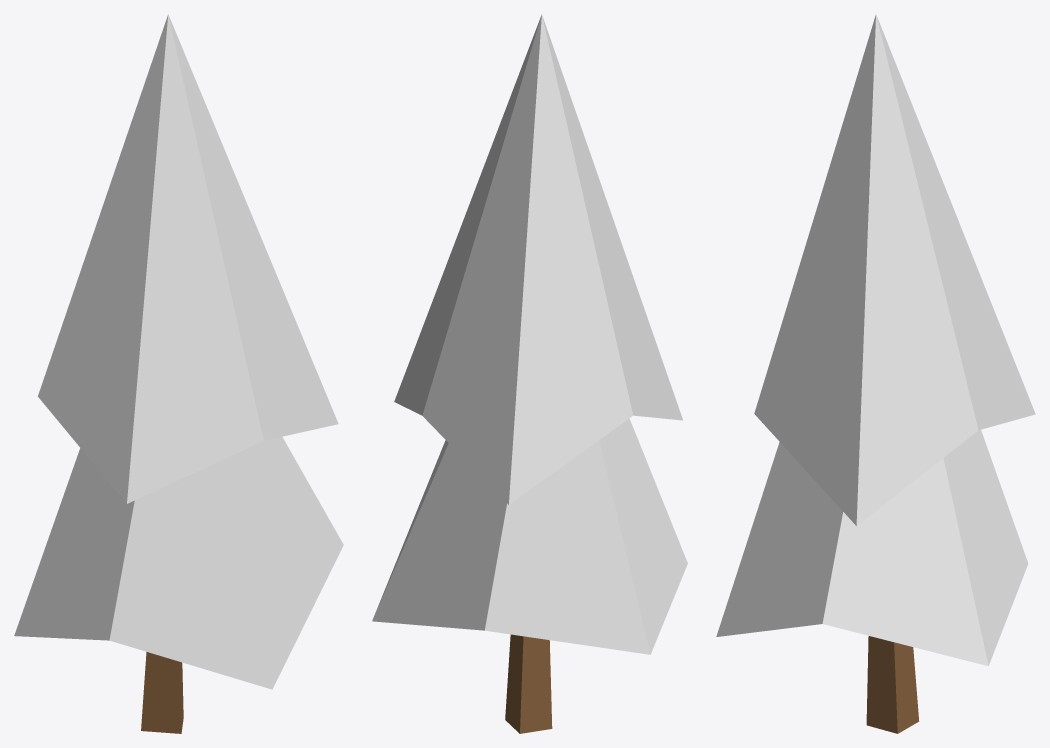
File: Pine_Tree_s_Snow_BT_07.fbx
The picture shows the model from 3 angles, left to right: view 1: azimuth 30°, elevation 25°; view 2: azimuth 150°, elevation 25°; view 3: azimuth 270°, elevation 25°; orthographic projection. The views are drawn at different scales.
Parts seen in each view (by area): view 1: Pine_Tree_s_Snow_BT_07; view 2: Pine_Tree_s_Snow_BT_07; view 3: Pine_Tree_s_Snow_BT_07.
Part boxes in pixels (x1=…): Pine_Tree_s_Snow_BT_07: x1=14, y1=14, x2=343, y2=733; Pine_Tree_s_Snow_BT_07: x1=372, y1=14, x2=687, y2=733; Pine_Tree_s_Snow_BT_07: x1=716, y1=14, x2=1035, y2=733.
Size of the model in its own units: 79.55 by 186 by 76.31.
